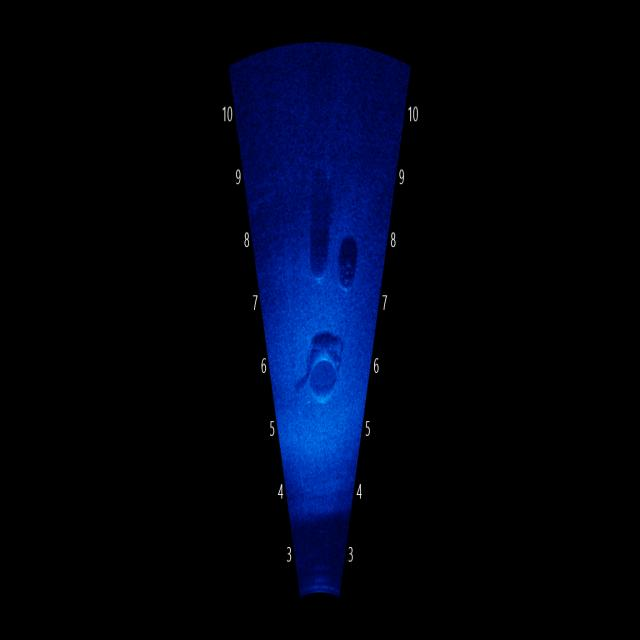circle: (298, 320, 354, 423), (298, 218, 342, 298), (330, 240, 376, 305)
